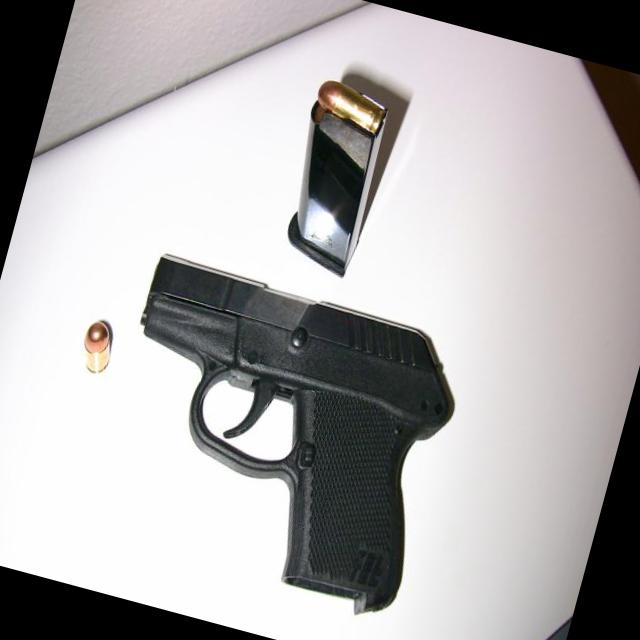Gun: (143, 256, 451, 612)
